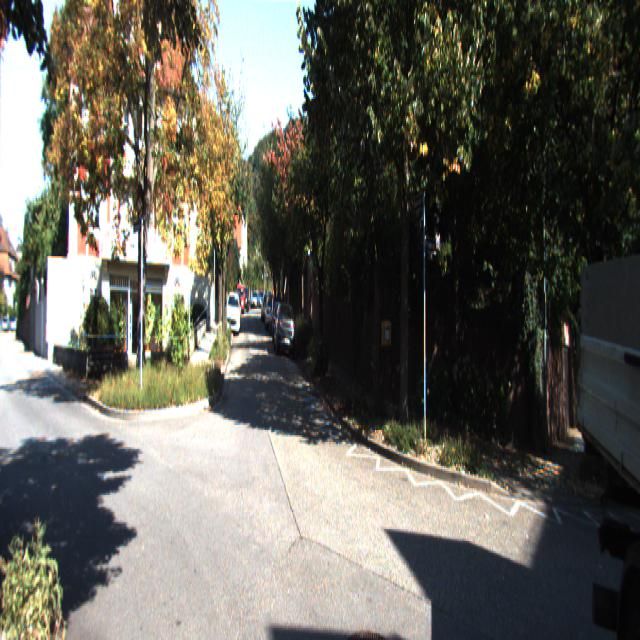Car: (572, 32, 640, 639), (273, 300, 295, 360), (226, 291, 241, 337)
